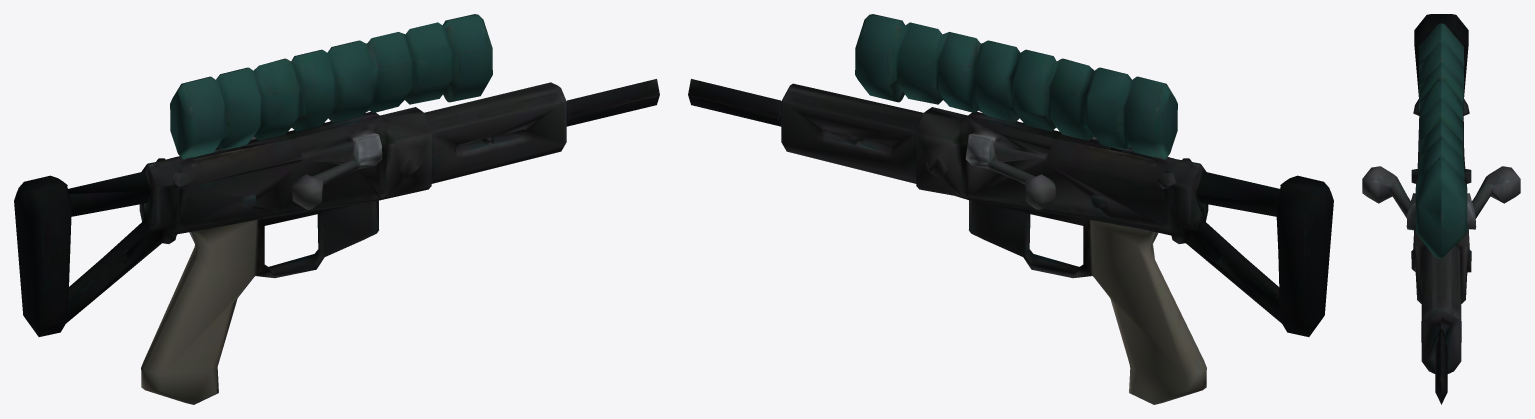
Rendered from gun_rifle_m.glb.
3 renders of one model, left to right at view 1: azimuth 30°, elevation 25°; view 2: azimuth 150°, elevation 25°; view 3: azimuth 270°, elevation 25°, orthographic. The views are drawn at different scales.
Visible parts, largest first — view 1: world; view 2: world; view 3: world.
Boxes of the visible parts, <box> form: world: <box>14,14,659,404</box>; world: <box>688,14,1333,404</box>; world: <box>1362,14,1520,404</box>.
Bounding box in the file's own units: 1 × 0.4839 × 0.2095.
Materials: 1 (1 with a texture image).
